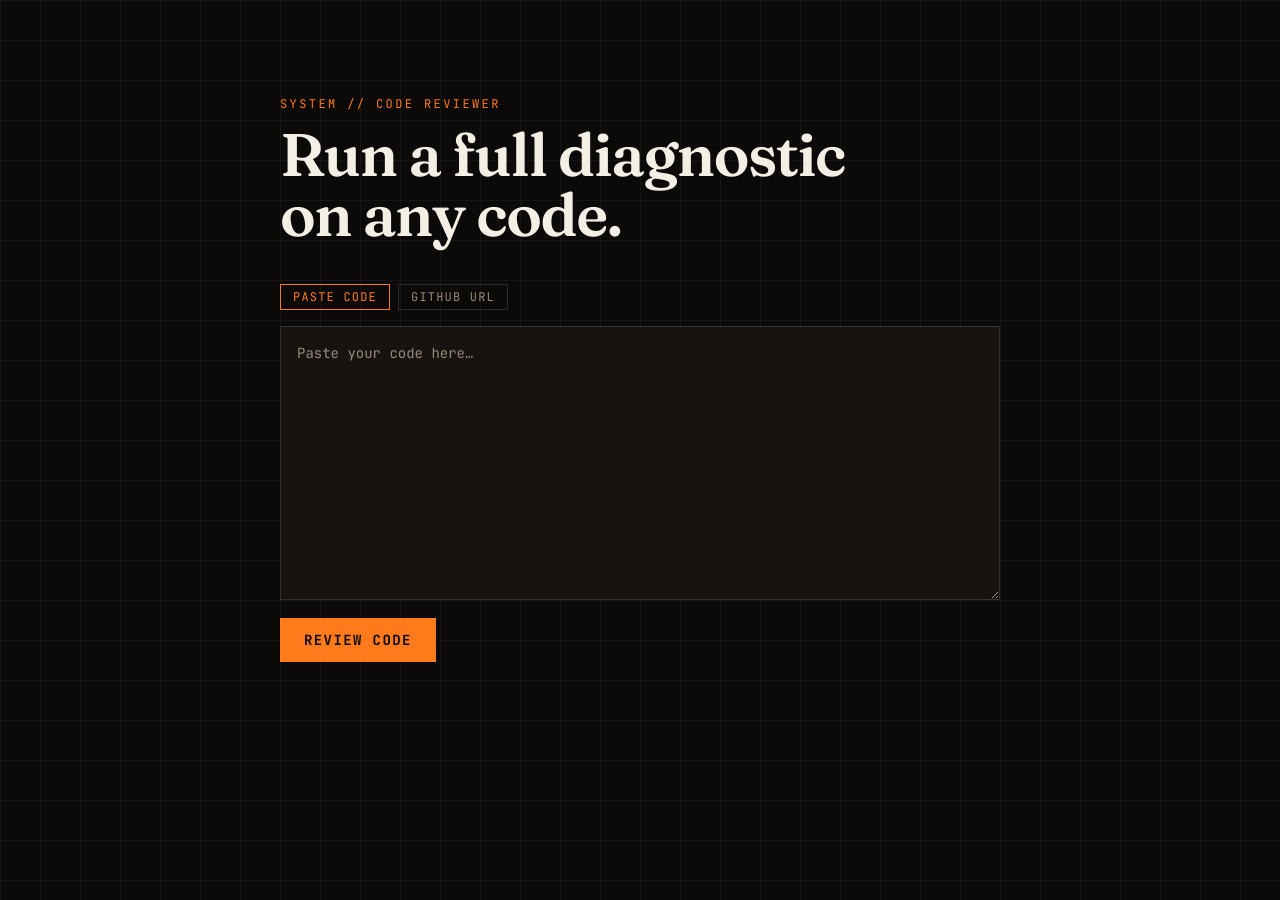
Test: Home page › shows the error message on a failed review
Type "const x = 1" into the text box with placeholder "Paste your code here…" at (640, 463), box x1=280 y1=326 x2=1000 y2=600
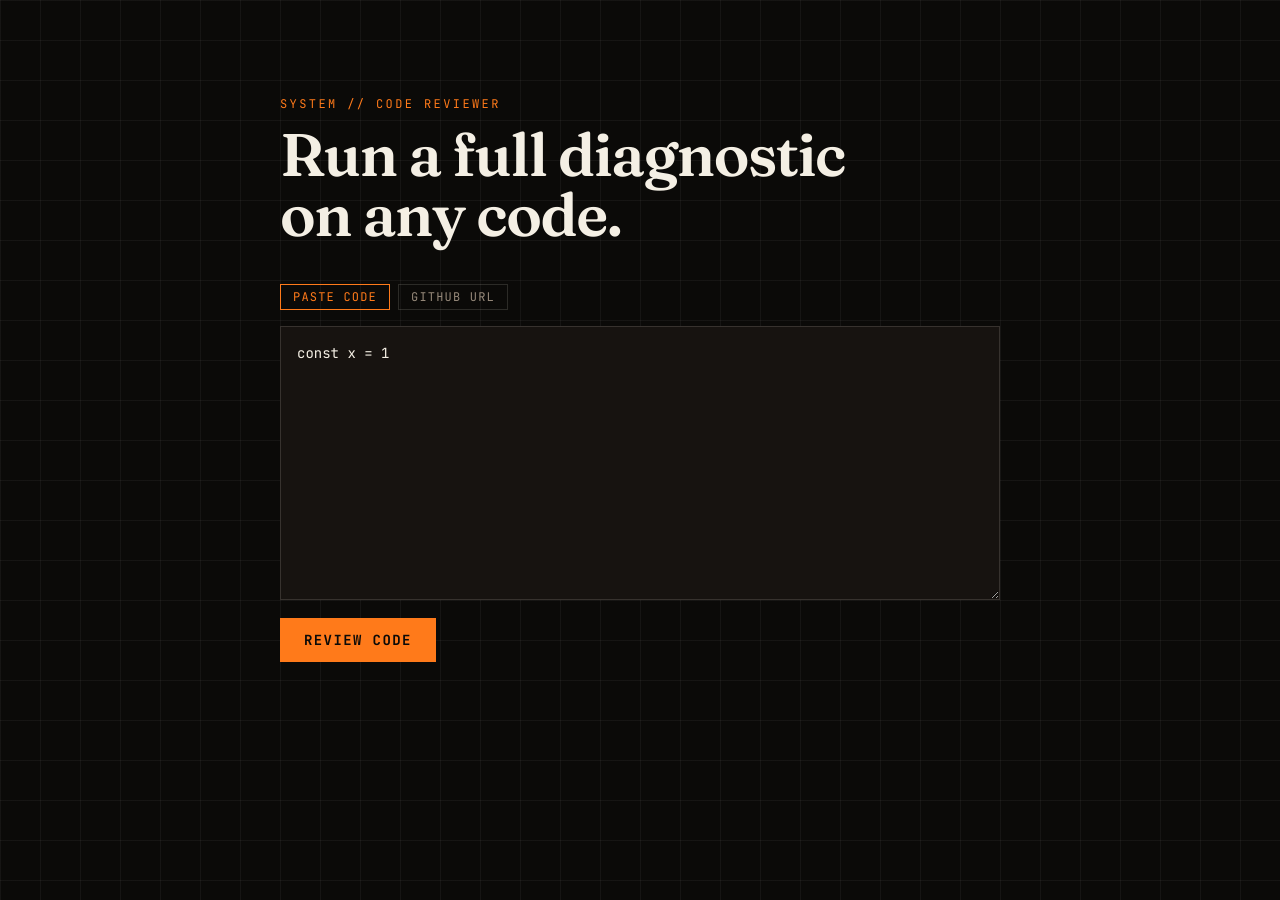
Click the button "Review Code" at (358, 640), box x1=280 y1=618 x2=436 y2=662
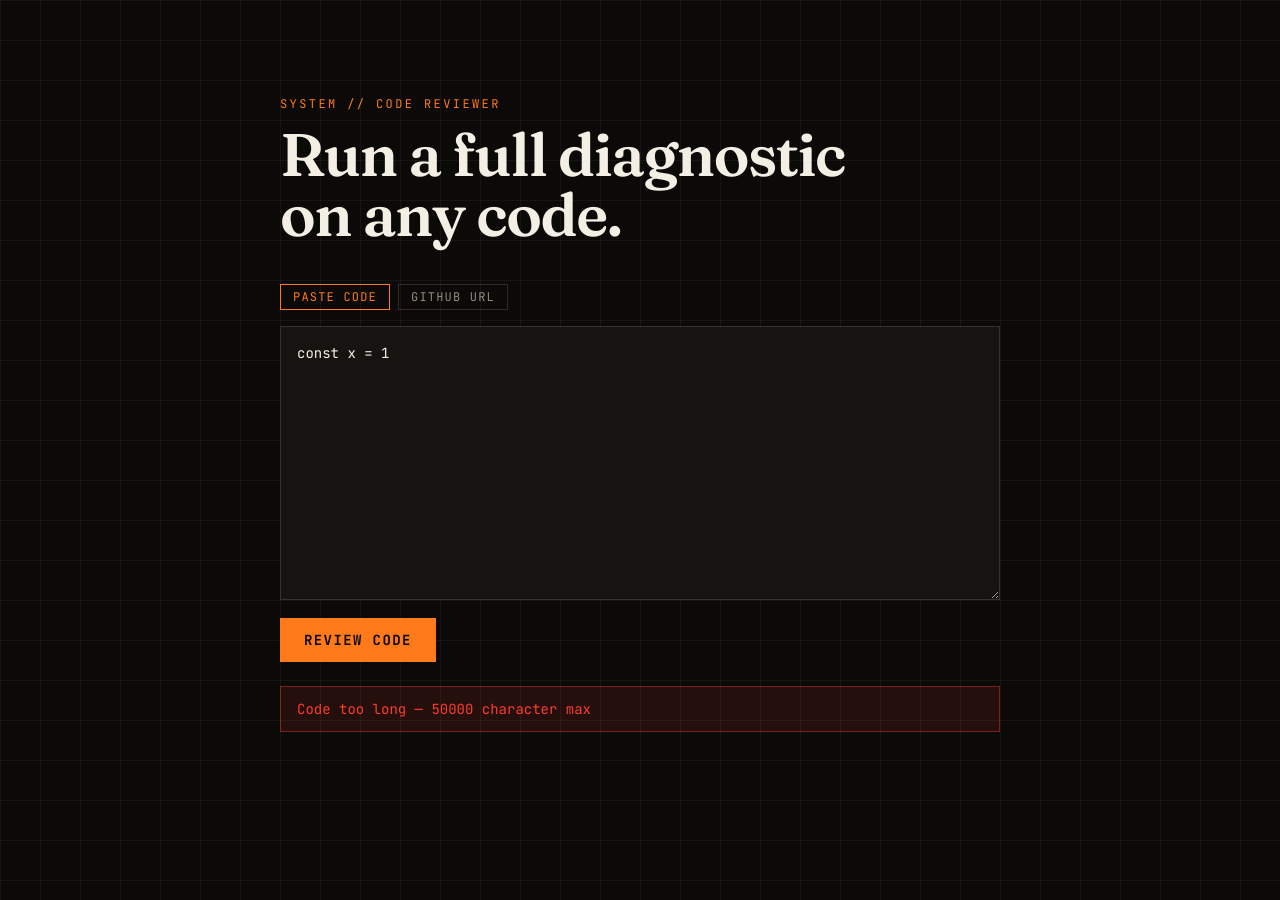
Now the text "Code too long — 50000 character max" is shown, box x1=280 y1=686 x2=1000 y2=732
